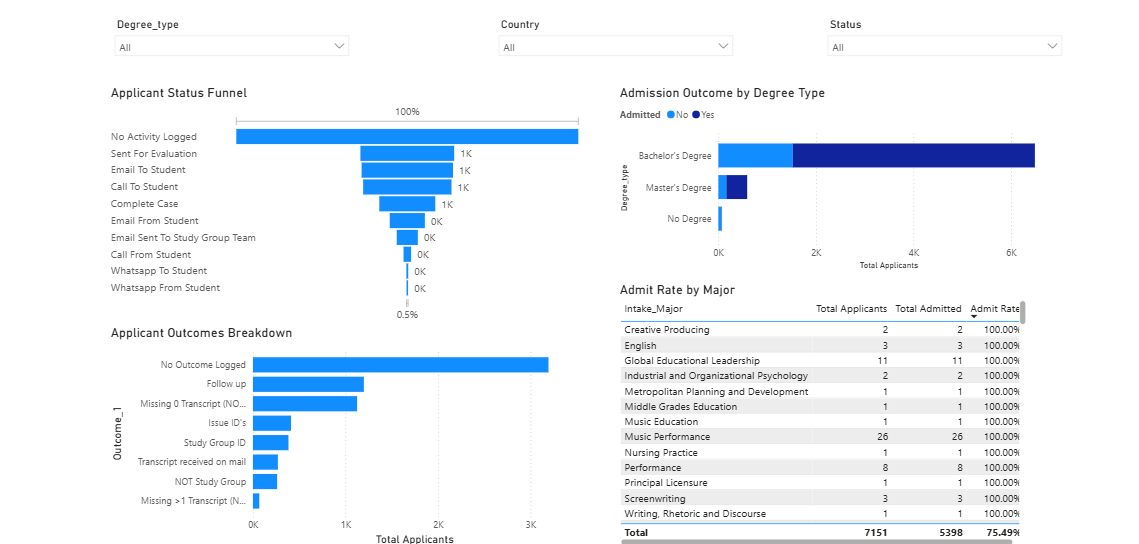

This screenshot's page, from the dashboard's own definition file:
{"tool":"powerbi","page":{"name":"Admissions Funnel","canvas":[1280,720],"ordinal":1},"visuals":[{"type":"funnel","title":"Applicant Status Funnel","fields":{"Category":["Applicant_Data.Status"],"Y":["Applicant_Data.Total Applicants"]},"box":[13,113,627,314],"z":0},{"type":"barChart","title":"Admission Outcome by Degree Type","fields":{"Category":["Applicant_Data.Degree_type"],"Y":["Applicant_Data.Total Applicants"],"Series":["Applicant_Data.Admitted"]},"box":[680,113,593,247],"z":1000},{"type":"clusteredBarChart","title":"Applicant Outcomes Breakdown","fields":{"Category":["Applicant_Data.Outcome_1"],"Y":["Applicant_Data.Total Applicants"]},"box":[13,427,627,293],"z":2000},{"type":"tableEx","title":"Admit Rate by Major","fields":{"Values":["Applicant_Data.Intake_Major","Applicant_Data.Total Applicants","Applicant_Data.Total Admitted","Applicant_Data.Admit Rate"]},"box":[680,370,542,350],"z":3000},{"type":"slicer","fields":{"Values":["Applicant_Data.Degree_type"]},"box":[13,19,327,68],"z":4000},{"type":"slicer","fields":{"Values":["Applicant_Data.Country"]},"box":[516,19,327,68],"z":5000},{"type":"slicer","fields":{"Values":["Applicant_Data.Status"]},"box":[946,19,327,68],"z":6000}]}

Visuals, with their boxes on the page's 1280x720 design canvas (x1, y1, x2, y2). These are canvas units, not pixel positions in the 1139x544 screenshot, which may show the page scaled, cropped or inside an application window:
"Applicant Status Funnel" funnel: <bbox>13, 113, 640, 427</bbox>
"Admission Outcome by Degree Type" barChart: <bbox>680, 113, 1273, 360</bbox>
"Applicant Outcomes Breakdown" clusteredBarChart: <bbox>13, 427, 640, 720</bbox>
"Admit Rate by Major" tableEx: <bbox>680, 370, 1222, 720</bbox>
slicer - Applicant_Data.Degree_type: <bbox>13, 19, 340, 87</bbox>
slicer - Applicant_Data.Country: <bbox>516, 19, 843, 87</bbox>
slicer - Applicant_Data.Status: <bbox>946, 19, 1273, 87</bbox>
